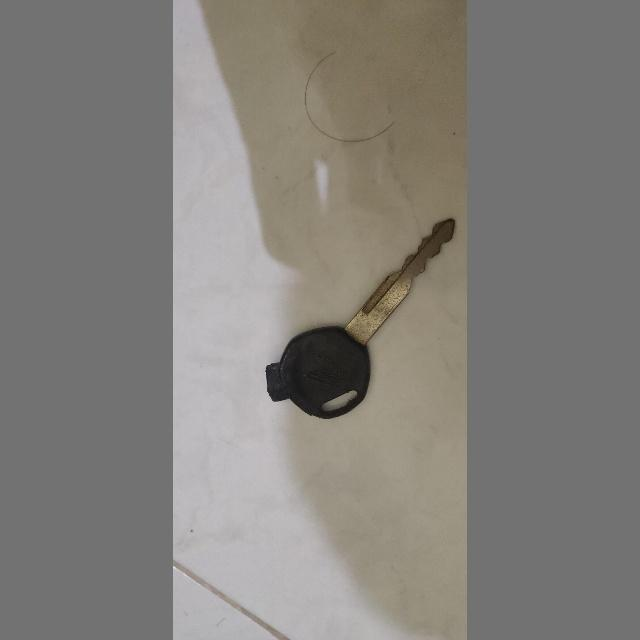Keys: (256, 210, 458, 430)
